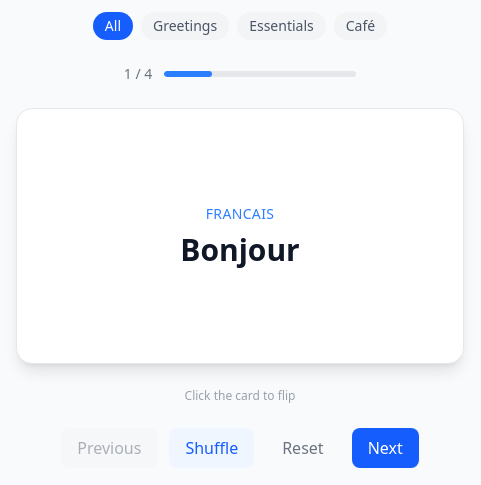
Test: FlashCardDeck › navigates to the next card
The image size is (481, 485).
What coordinates should you click on to do the following:
click the button "Next"
I would click on:
 (385, 448)
Its box is [352, 428, 419, 468].
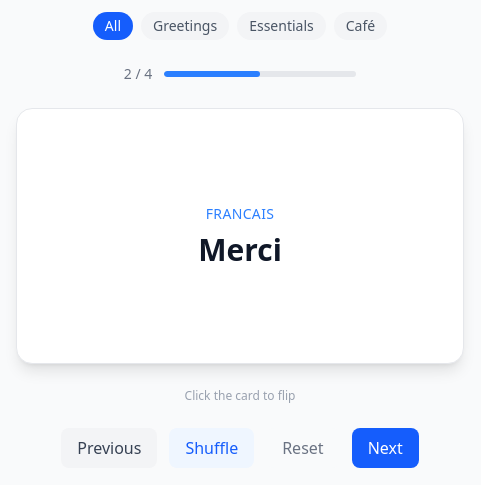
expect the text "Merci" is shown: met, box [198, 232, 282, 268]
expect the text "2 / 4" is shown: met, box [124, 64, 152, 84]
